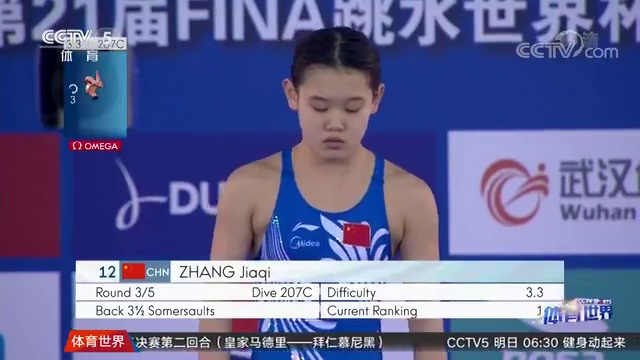face: (299, 64, 369, 158)
